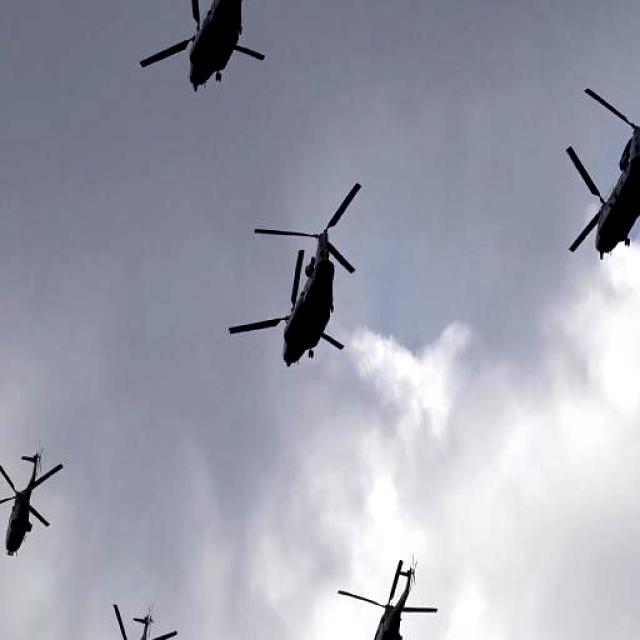drone: (224, 176, 366, 371), (561, 79, 640, 269), (136, 0, 290, 96), (334, 552, 444, 640), (0, 444, 68, 561), (78, 595, 181, 640)
